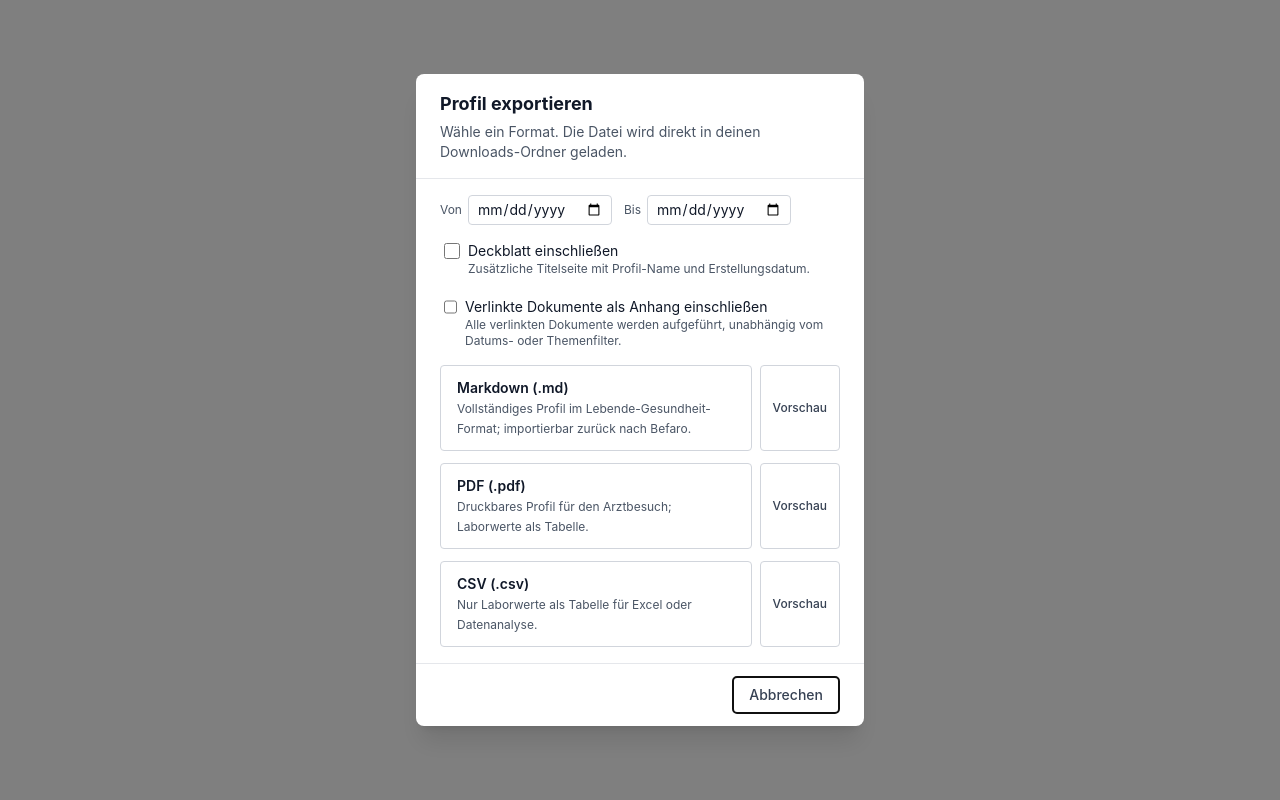
ExportDialog › shows an error when no profile exists
Click the button with test id "export-markdown-button" at (596,408), box x1=440 y1=365 x2=752 y2=451
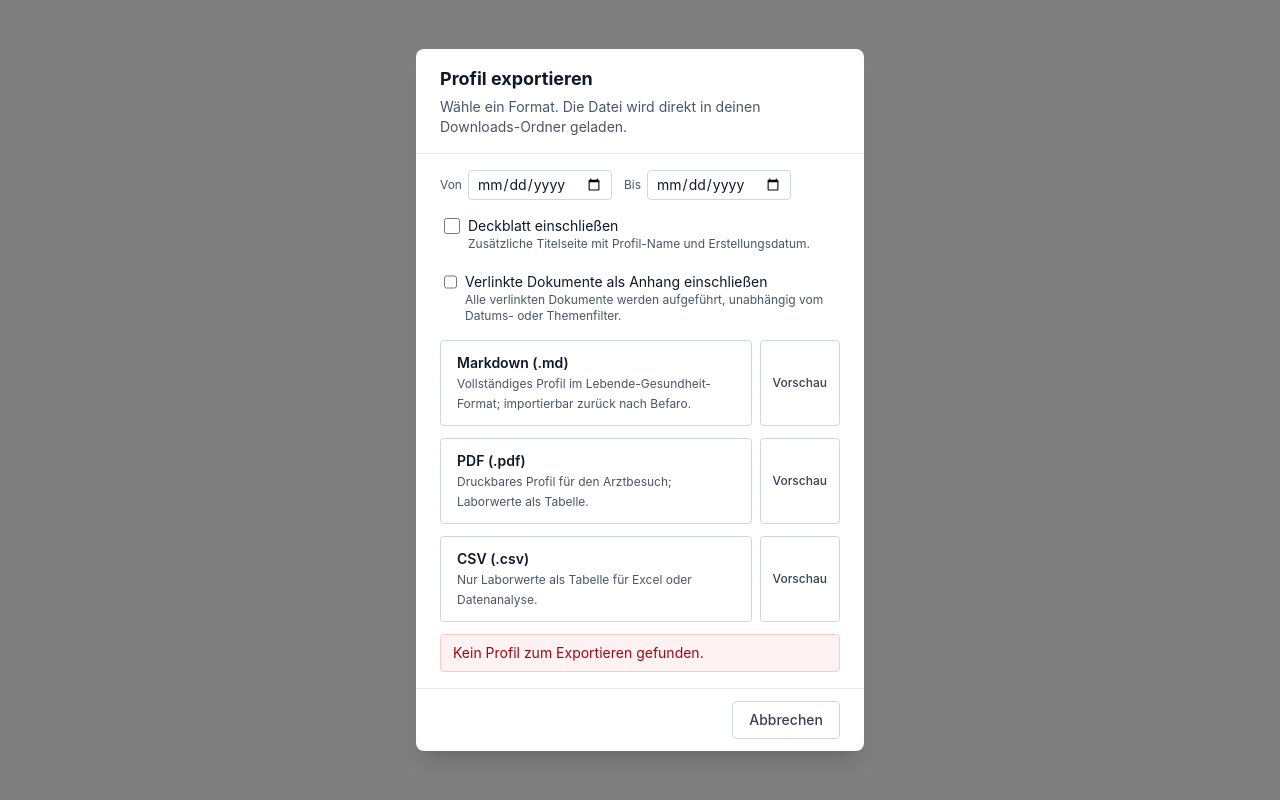
Expected: the message with test id "export-error" shows "Kein Profil", x1=453 y1=644 x2=704 y2=661
